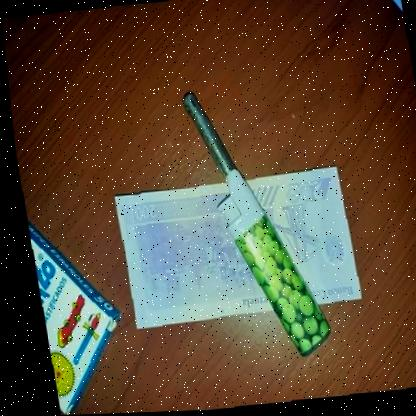two_hundred-back-vef: (107, 166, 359, 330)
